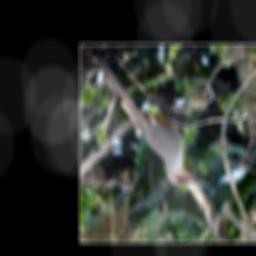Cuckoo: (93, 54, 208, 188)
